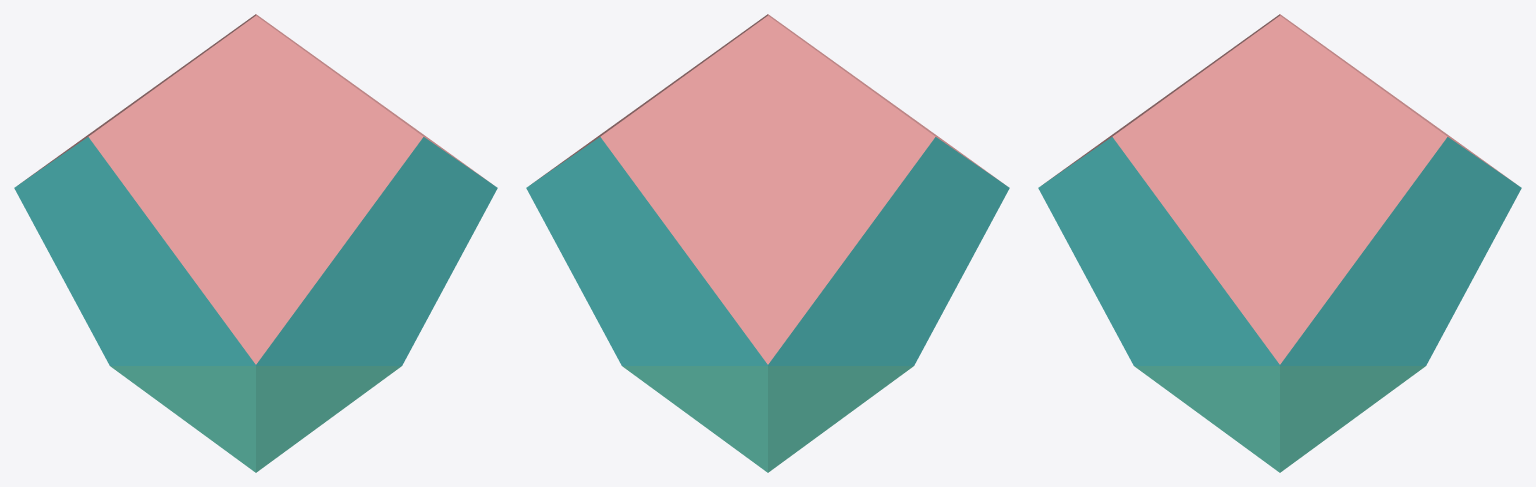
Rendered from pipa3p.obj.
3 renders of one model, left to right at view 1: azimuth 30°, elevation 25°; view 2: azimuth 150°, elevation 25°; view 3: azimuth 270°, elevation 25°, orthographic.
Size of the model in its own units: 2.8 by 2.52 by 2.87.
